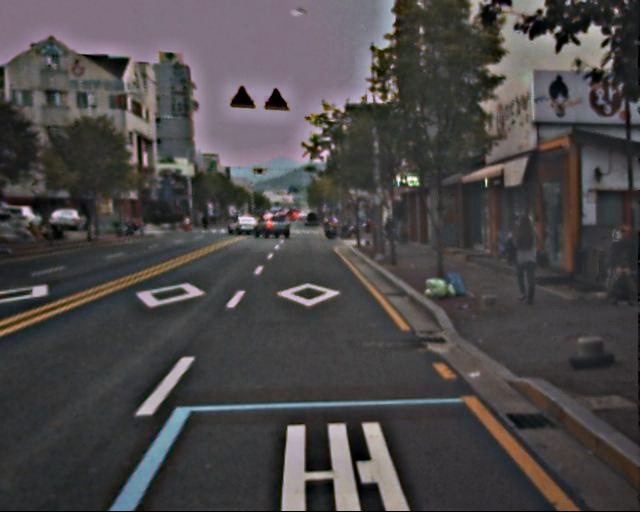person: (506, 215, 543, 304), (602, 226, 635, 305)
